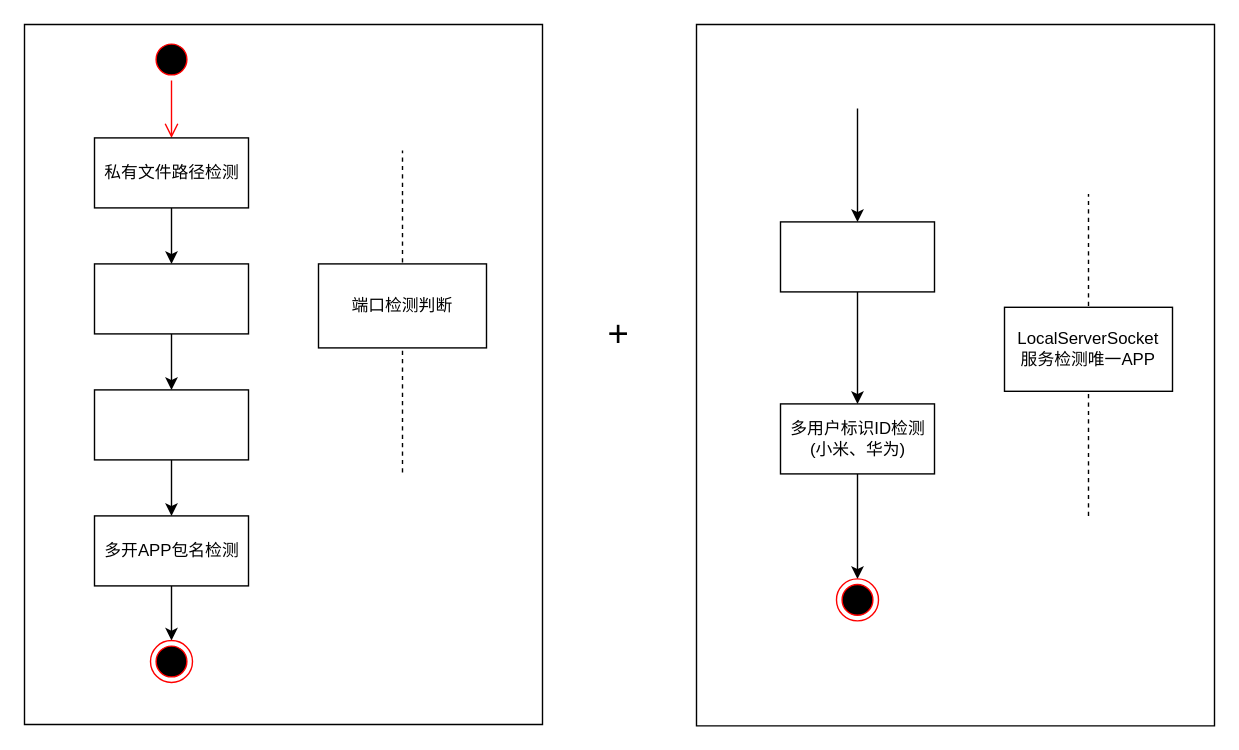
This 1239x750 diagram has some shape labels left out. Here are the shapes that lost their labels. From the top down, the centre of each, then its label:
At [856,256]: "异常栈Hook检测".
At [170,298]: "原始包名检测".
At [170,424]: "App的UID检测".
